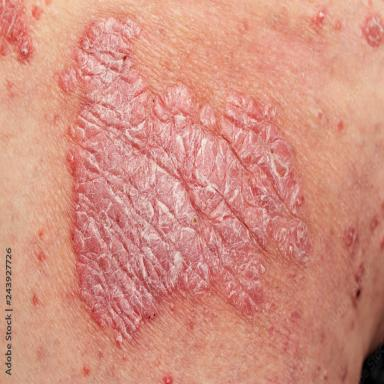Psoriasis: (57, 14, 315, 350), (265, 310, 307, 382), (0, 0, 35, 62), (362, 15, 384, 46), (342, 226, 359, 258), (312, 8, 326, 26), (6, 80, 17, 98), (32, 6, 43, 20), (371, 215, 379, 232), (163, 372, 174, 384), (333, 18, 342, 30), (32, 293, 39, 306), (337, 119, 344, 132), (53, 114, 61, 125), (83, 364, 90, 375), (38, 229, 44, 240), (38, 252, 45, 261)
